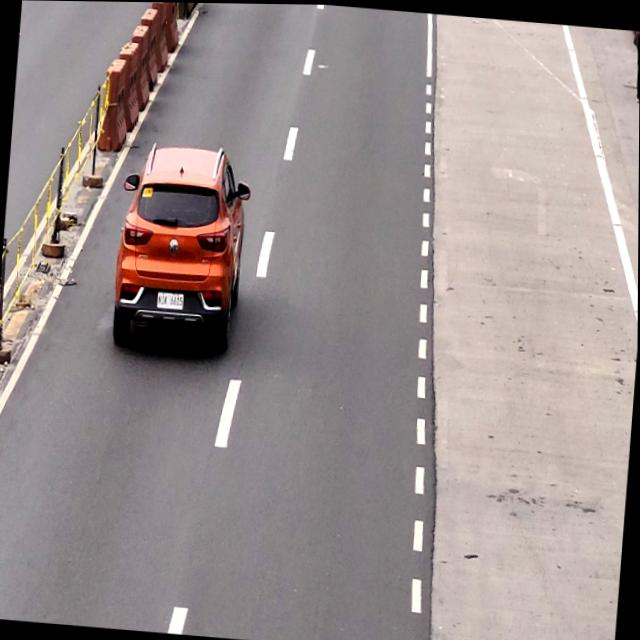Car: (110, 140, 253, 355)
License-Plate: (155, 289, 185, 313)
